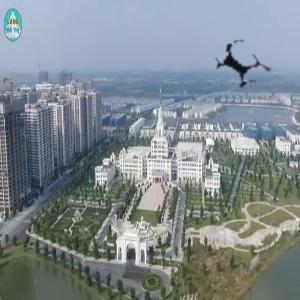drone: (197, 19, 288, 110)
